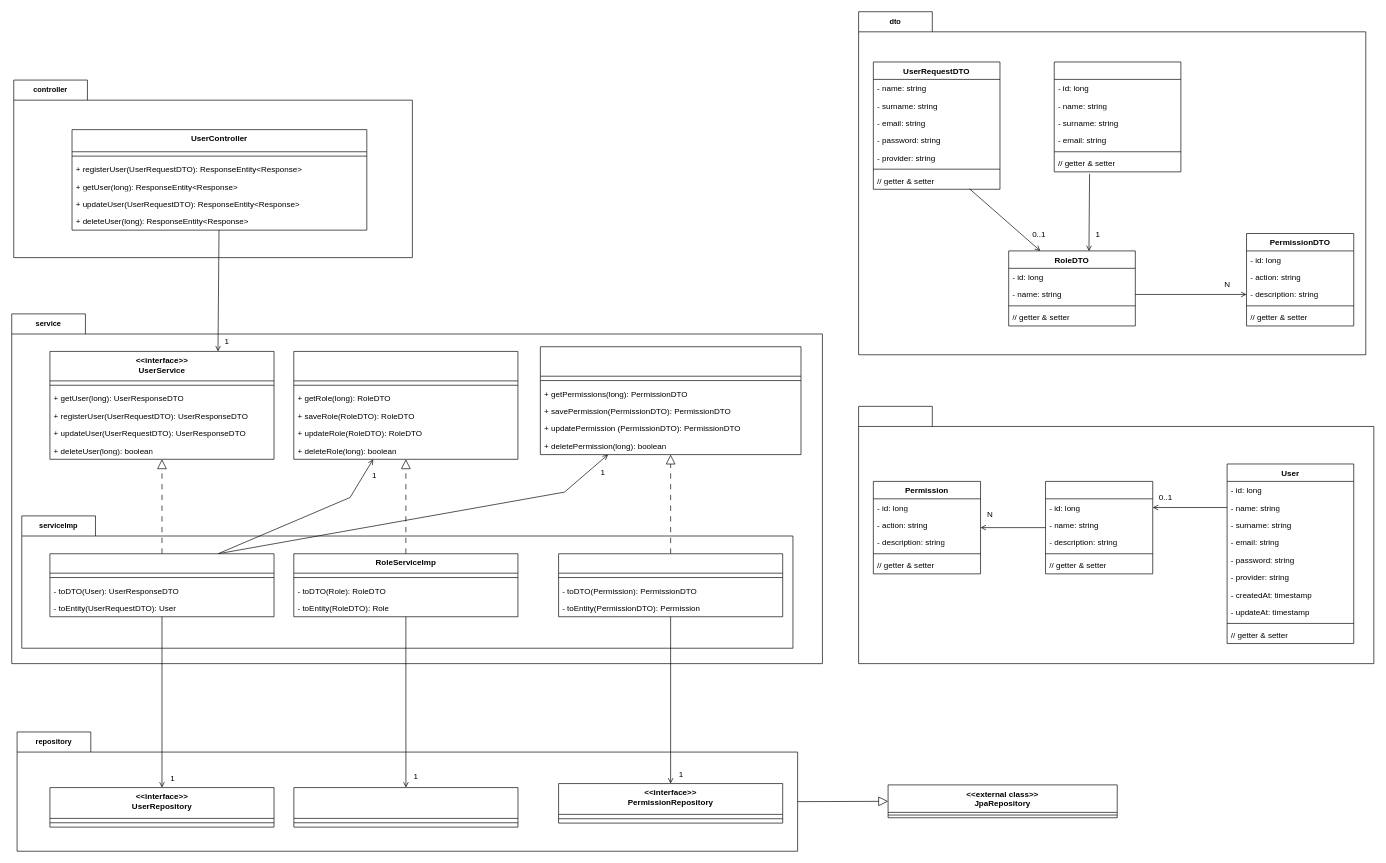
The diagram is 1386 pixels wide and 863 high, and some of its shapes have lost their labels. The shapes that lost their labels are listed below. From the top down, each one's box as (x1, y1, x2, y2) in pixels, then its label:
(1054, 61, 1181, 172): UserResponseDTO
(293, 351, 518, 459): <<interface>> RoleService
(540, 346, 801, 455): <<interface>> PermissionService
(1045, 481, 1153, 574): Role
(858, 406, 1374, 664): model
(49, 553, 274, 617): UserServiceImp
(558, 553, 783, 617): PermissionServiceImp
(293, 787, 518, 827): <<interface>> RoleRepository
